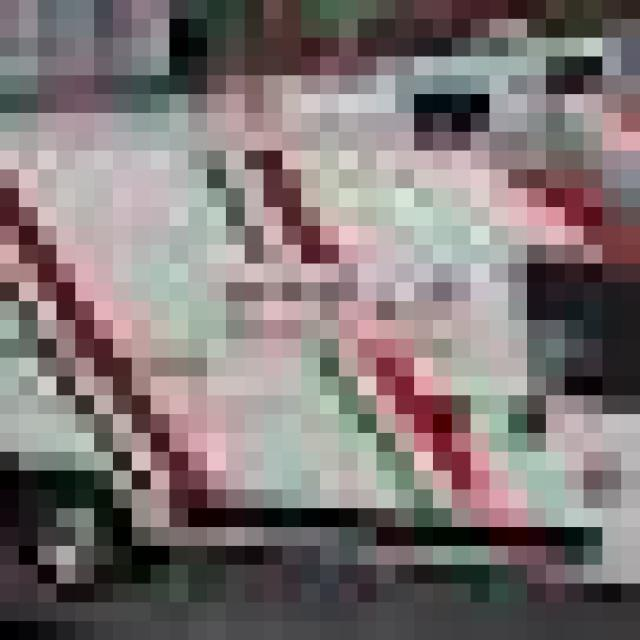police: (0, 94, 640, 584)
